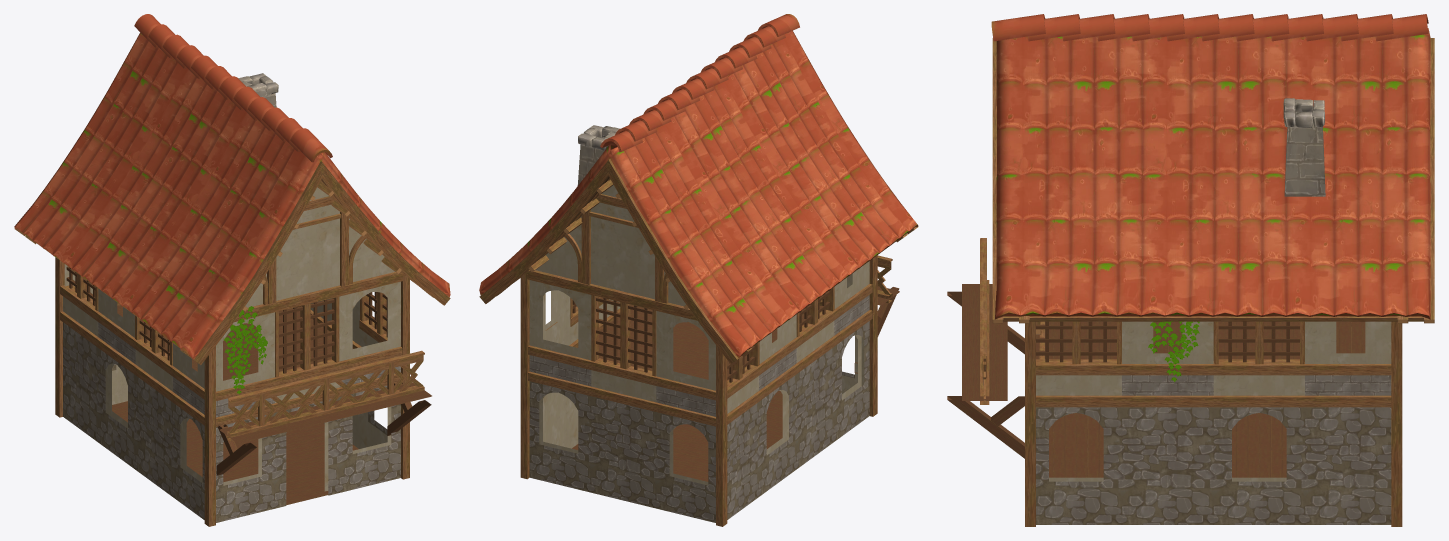
Rendered from med-house-v3.glb.
The picture shows the model from 3 angles, left to right: view 1: azimuth 30°, elevation 25°; view 2: azimuth 150°, elevation 25°; view 3: azimuth 270°, elevation 25°; orthographic projection. The views are drawn at different scales.
Visible parts, largest first — view 1: med-house-v3; view 2: med-house-v3; view 3: med-house-v3.
Boxes of the visible parts, x1,y1,x2,y2 form: med-house-v3: (14, 14, 450, 526); med-house-v3: (479, 14, 918, 526); med-house-v3: (947, 14, 1434, 526).
Size of the model in its own units: 8.25 by 10.89 by 10.65.
7 materials, 7 textured.
